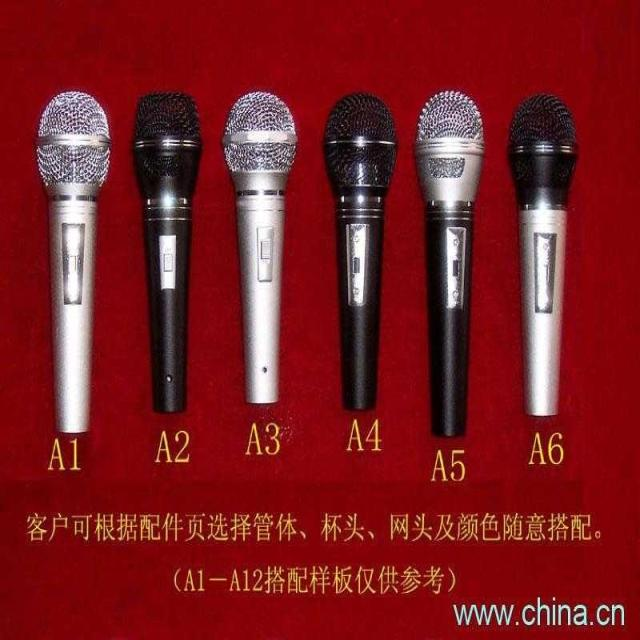microphone: (34, 90, 112, 432), (413, 90, 489, 434), (222, 92, 298, 404), (322, 95, 397, 410), (130, 90, 203, 410), (507, 94, 579, 416)
